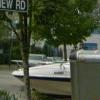Boat: (11, 53, 70, 89)
